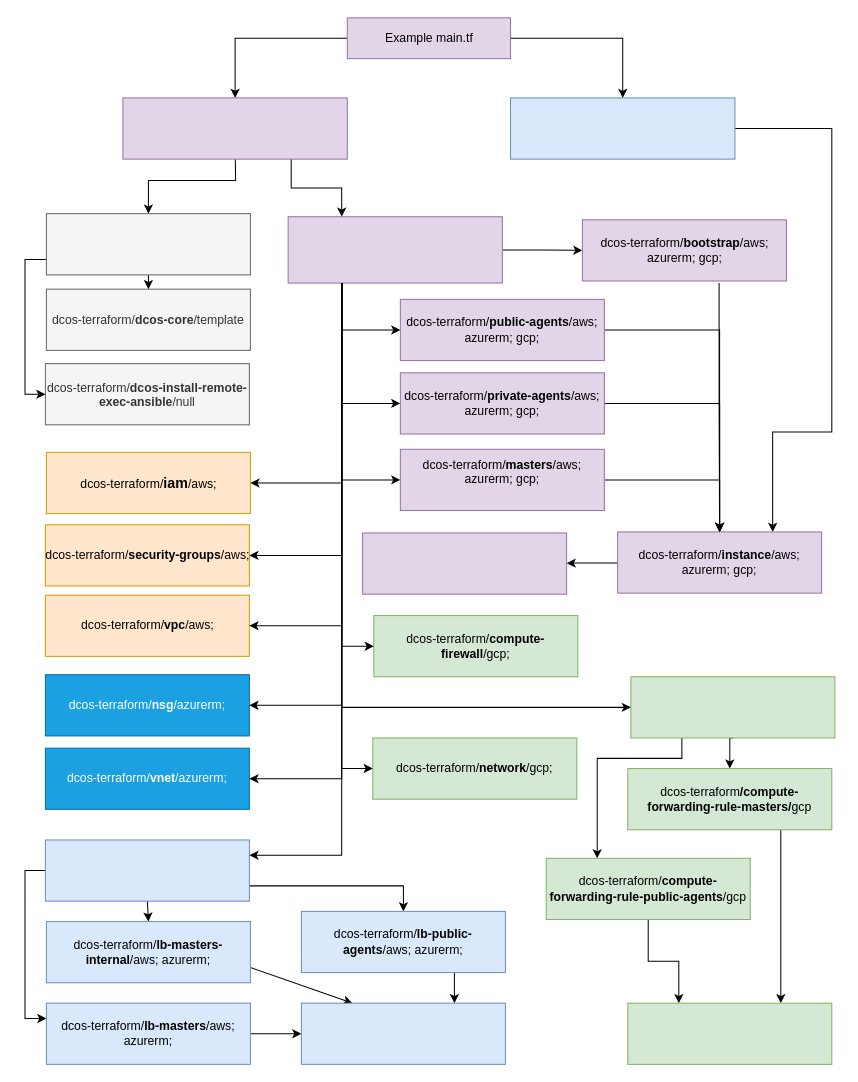
The diagram is 858 pixels wide and 1082 high, and some of its shapes have lost their labels. The shapes that lost their labels are listed below. From the top down, each one's centre as x and y in pixels, then its label:
the point at 234,128: dcos-terraform/ dcos /aws; azurerm; gcp;
the point at 622,128: dcos-terraform/ windows-instance /aws; azurerm;
the point at 147,244: dcos-terraform/ dcos-install-remote-exec /null
the point at 394,249: dcos-terraform/ infrastructure/ aws; azurerm; gcp;
the point at 464,563: dcos-terraform/ tested-oses /aws; azurerm; gcp;
the point at 732,707: dcos-terraform/ compute-forwarding-rule-dcos /gcp;
the point at 146,870: dcos-terraform/ lb-dcos /aws; azurerm;
the point at 402,1033: dcos-terraform/ lb /aws; azurerm;
the point at 729,1033: dcos-terraform/ compute-forwarding-rule /gcp
